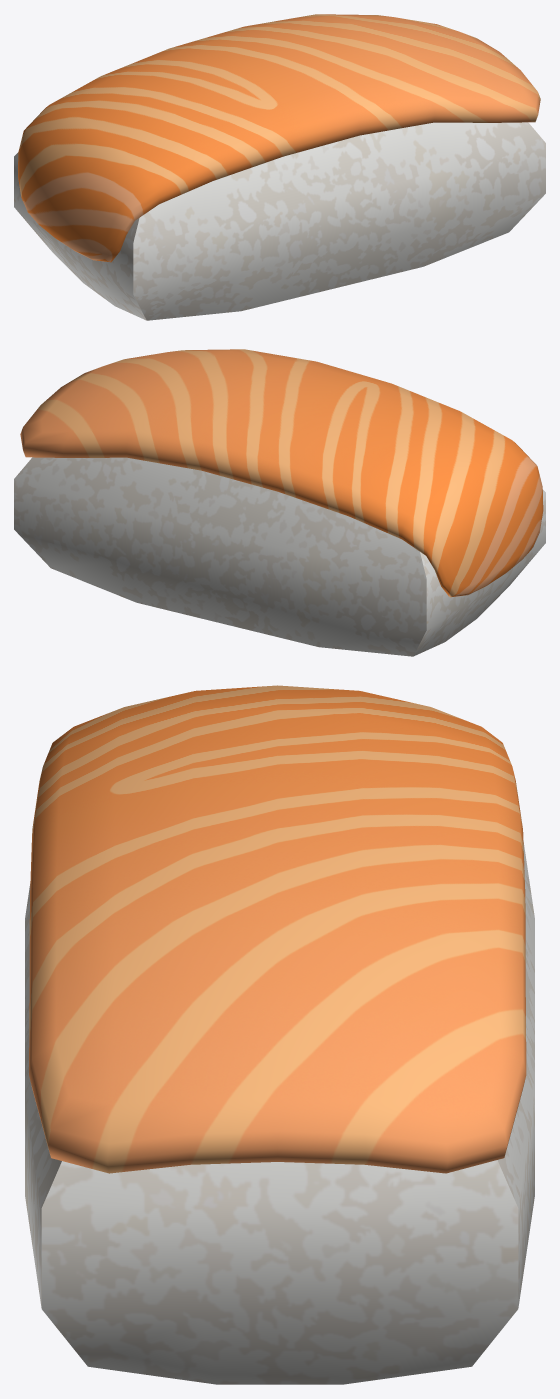
Rendered from nigiri.fbx.
3 renders of one model, top to bottom at view 1: azimuth 30°, elevation 25°; view 2: azimuth 150°, elevation 25°; view 3: azimuth 270°, elevation 25°, orthographic. The views are drawn at different scales.
Visible parts, largest first — view 1: Box002, Box001; view 2: Box002, Box001; view 3: Box002, Box001.
Part boxes in pixels (x1,y1,x2,y2): Box002: (18,14,540,262); Box001: (14,122,545,320); Box002: (20,349,543,597); Box001: (14,457,545,656); Box002: (29,685,526,1173); Box001: (25,840,534,1384).
Size of the model in its own units: 17.86 by 7.89 by 8.77.
